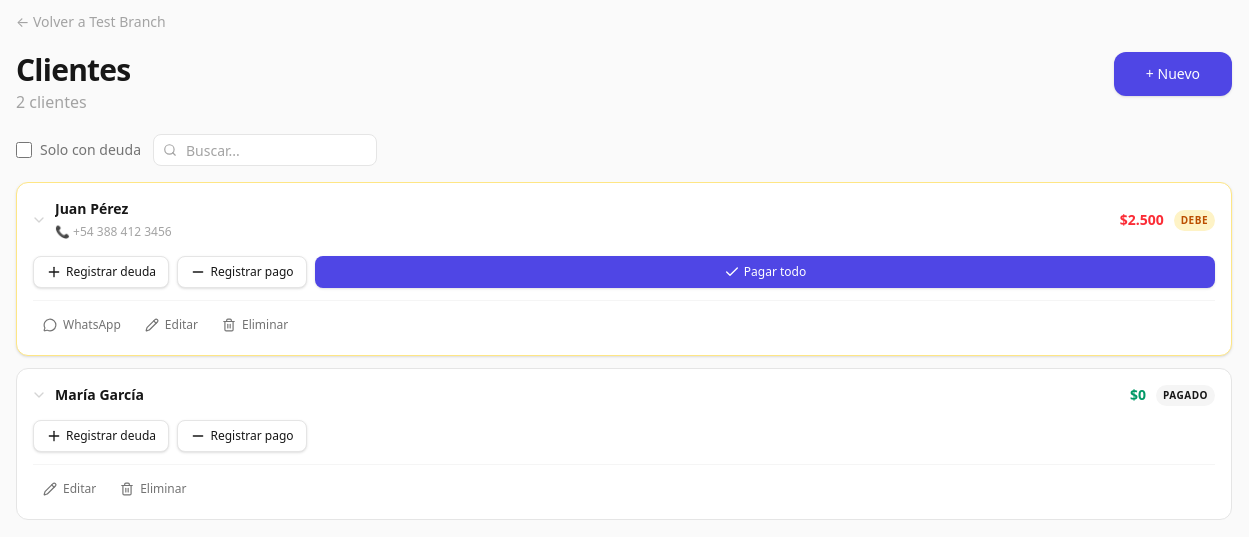
Test: ClientList › should filter by search query
The image size is (1249, 537).
Expected: the text "Juan Pérez" is shown, x1=55 y1=199 x2=128 y2=218
Type "Juan" into the field with placeholder "Buscar..." at (265, 150), box x1=153 y1=134 x2=377 y2=166
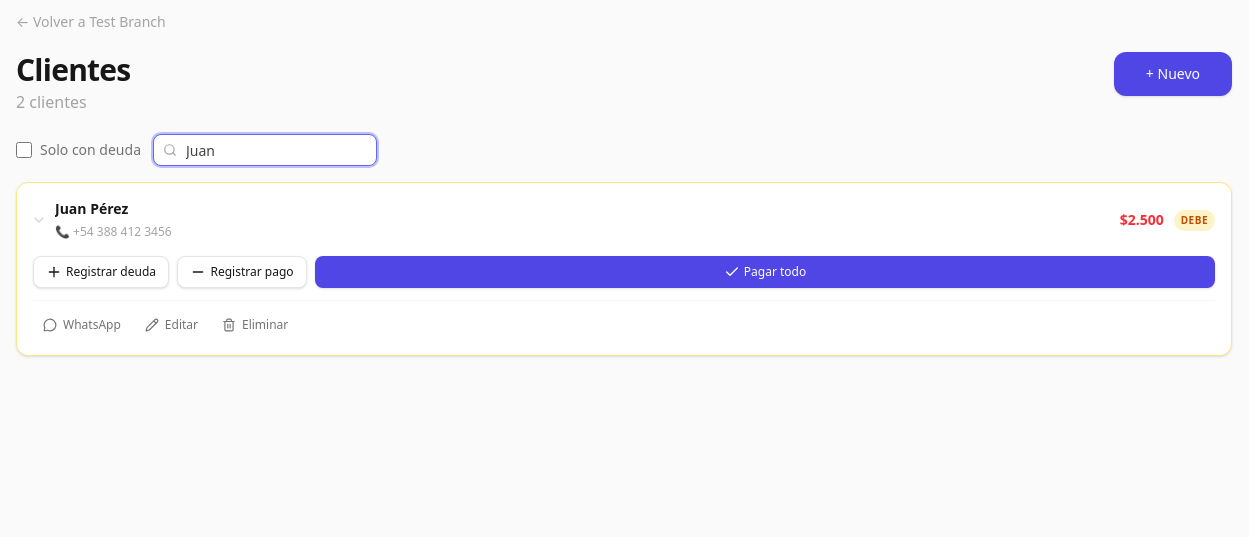
Expected: the text "Juan Pérez" is shown, x1=55 y1=199 x2=128 y2=218
Expected: the text "María García" is gone
